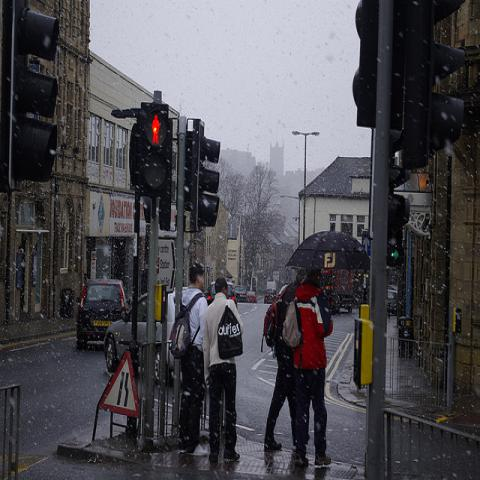car: (105, 288, 178, 384), (76, 278, 128, 348), (227, 283, 238, 309), (234, 285, 247, 302), (264, 289, 277, 304), (247, 291, 257, 303)
